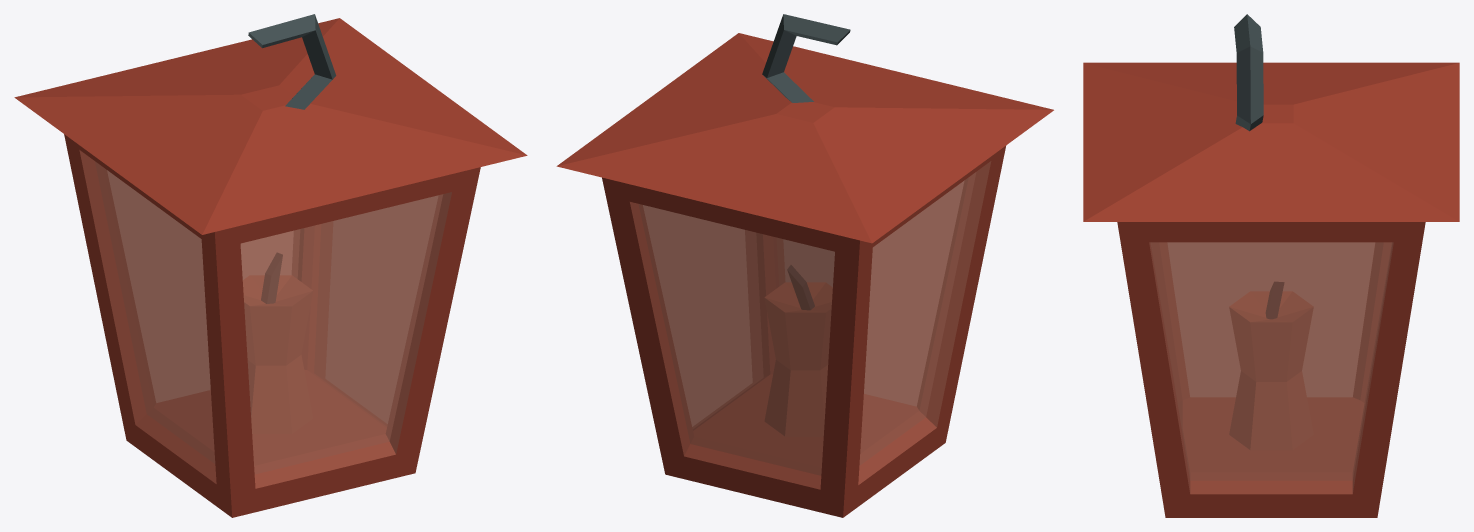
Rendered from Lamp_2_Red.fbx.
3 renders of one model, left to right at view 1: azimuth 30°, elevation 25°; view 2: azimuth 150°, elevation 25°; view 3: azimuth 270°, elevation 25°, orthographic. The views are drawn at different scales.
Parts seen in each view (by area): view 1: Lamp_2_Red_Part_1, Lamp_2_Red_Part_2, Lamp_2_Red_Part_3, Lamp_2_Red_Part_5, Lamp_2_Red_Part_4; view 2: Lamp_2_Red_Part_1, Lamp_2_Red_Part_2, Lamp_2_Red_Part_3, Lamp_2_Red_Part_5, Lamp_2_Red_Part_4; view 3: Lamp_2_Red_Part_1, Lamp_2_Red_Part_2, Lamp_2_Red_Part_3, Lamp_2_Red_Part_5, Lamp_2_Red_Part_4.
Boxes of the visible parts, x1,y1,x2,y2 form: Lamp_2_Red_Part_1: [14, 18, 527, 517]; Lamp_2_Red_Part_2: [79, 150, 451, 488]; Lamp_2_Red_Part_3: [243, 275, 312, 433]; Lamp_2_Red_Part_5: [248, 14, 336, 109]; Lamp_2_Red_Part_4: [261, 253, 282, 303]; Lamp_2_Red_Part_1: [556, 33, 1053, 517]; Lamp_2_Red_Part_2: [630, 161, 991, 489]; Lamp_2_Red_Part_3: [765, 282, 832, 436]; Lamp_2_Red_Part_5: [762, 14, 850, 102]; Lamp_2_Red_Part_4: [787, 265, 814, 309]; Lamp_2_Red_Part_1: [1083, 62, 1459, 517]; Lamp_2_Red_Part_2: [1149, 242, 1393, 494]; Lamp_2_Red_Part_3: [1229, 291, 1313, 449]; Lamp_2_Red_Part_5: [1234, 14, 1263, 131]; Lamp_2_Red_Part_4: [1266, 282, 1283, 318].
Size of the model in its own units: 53.31 by 69.23 by 53.31.
